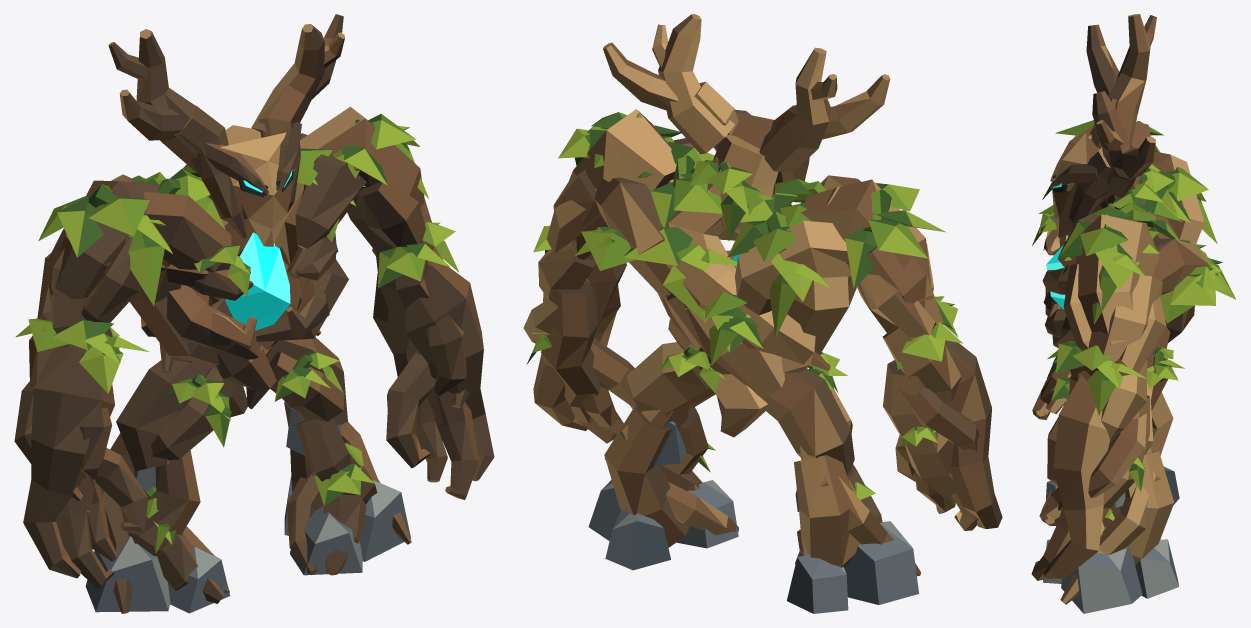
The model's file is tide-root-colossus-v4.glb.
3 renders of one model, left to right at view 1: azimuth 30°, elevation 25°; view 2: azimuth 150°, elevation 25°; view 3: azimuth 270°, elevation 25°, orthographic. The views are drawn at different scales.
Parts seen in each view (by area): view 1: Forearm main to outer claw -1, Forearm main to outer claw 1, Thigh load root -1, Left clavicle cascade, Outer shoulder root 1, Right clavicle cascade, Outer embedded foot stone -1, Long tapered bark mask, Outer shoulder root -1, Exposed turquoise heart, Calf crossing root -1, Opposed root thumb 1 (+55 smaller); view 2: Calf rear load 1, Forearm main to outer claw -1, Thigh load root -1, Calf rear load -1, Rear diagonal trunk, Outer shoulder root 1, Left scapular arch, Forearm inner braid 1, Crown right main, Crown left main, Right scapular arch, Outer embedded foot stone -1 (+47 smaller); view 3: Forearm main to outer claw 1, Outer shoulder root 1, Outer embedded foot stone 1, Arm descending trunk 1, Crown left main, Calf rear load 1, Forearm diagonal living root 1, Lower leg lateral root 1, Elbow outer hook 1, Right scapular arch, Crown right main, Rear heel stone 1 (+45 smaller).
Boxes of the visible parts, x1,y1,x2,y2 form: Forearm main to outer claw -1: (23,345,114,578); Forearm main to outer claw 1: (393,262,494,481); Thigh load root -1: (116,360,217,471); Left clavicle cascade: (144,191,233,271); Outer shoulder root 1: (300,106,424,207); Right clavicle cascade: (295,154,366,249); Outer embedded foot stone -1: (85,536,170,612); Long tapered bark mask: (220,132,294,246); Outer shoulder root -1: (49,180,159,298); Exposed turquoise heart: (225,232,290,330); Calf crossing root -1: (128,450,200,556); Opposed root thumb 1: (386,352,435,468); Calf rear load 1: (604,406,689,547); Forearm main to outer claw -1: (937,340,1002,528); Thigh load root -1: (755,368,854,475); Calf rear load -1: (794,455,859,567); Rear diagonal trunk: (666,157,784,398); Outer shoulder root 1: (566,109,676,190); Left scapular arch: (735,220,851,315); Forearm inner braid 1: (541,284,600,408); Crown right main: (658,14,734,154); Crown left main: (759,47,830,172); Right scapular arch: (594,177,670,300); Outer embedded foot stone -1: (844,521,918,604); Forearm main to outer claw 1: (1043,374,1110,578); Outer shoulder root 1: (1076,214,1159,344); Outer embedded foot stone 1: (1061,545,1142,613); Arm descending trunk 1: (1069,275,1162,395); Crown left main: (1108,14,1150,144); Calf rear load 1: (1120,451,1174,565); Forearm diagonal living root 1: (1058,413,1146,510); Lower leg lateral root 1: (1060,448,1161,604); Elbow outer hook 1: (1101,360,1147,444); Right scapular arch: (1152,238,1209,294); Crown right main: (1092,91,1136,198); Rear heel stone 1: (1135,539,1178,598).
Size of the model in its own units: 5.11 by 5.78 by 2.17.
